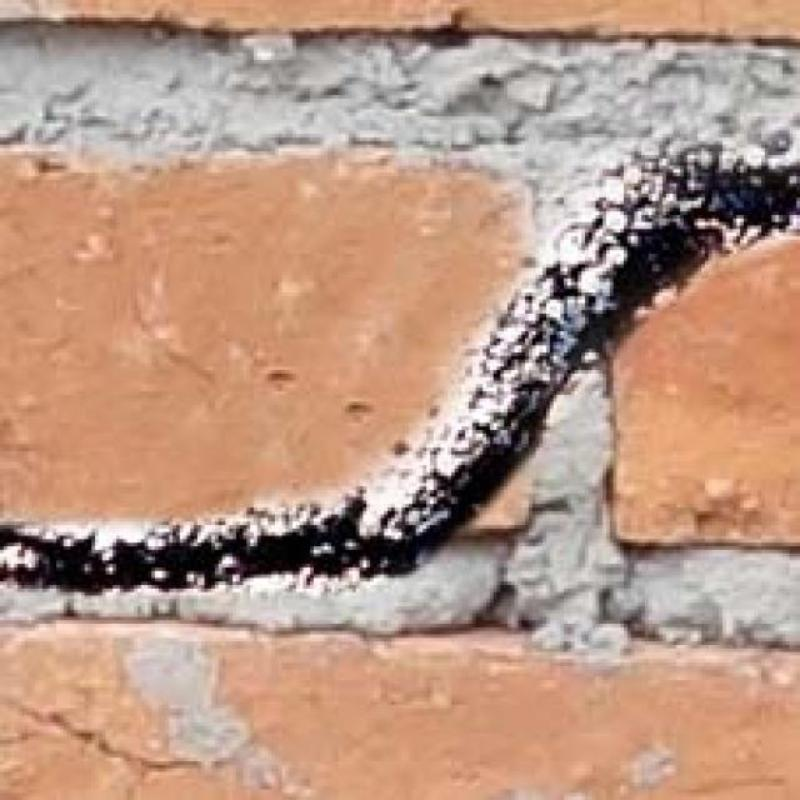pothole: (0, 170, 800, 596)
